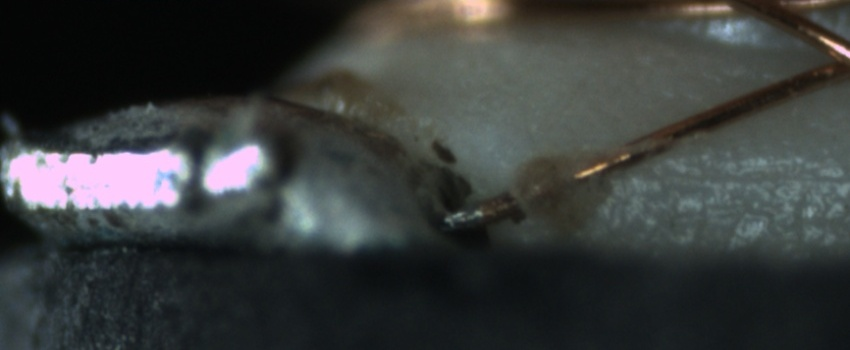CL: (795, 24, 850, 89)
DL: (631, 144, 850, 208)
TS: (445, 207, 484, 232)
